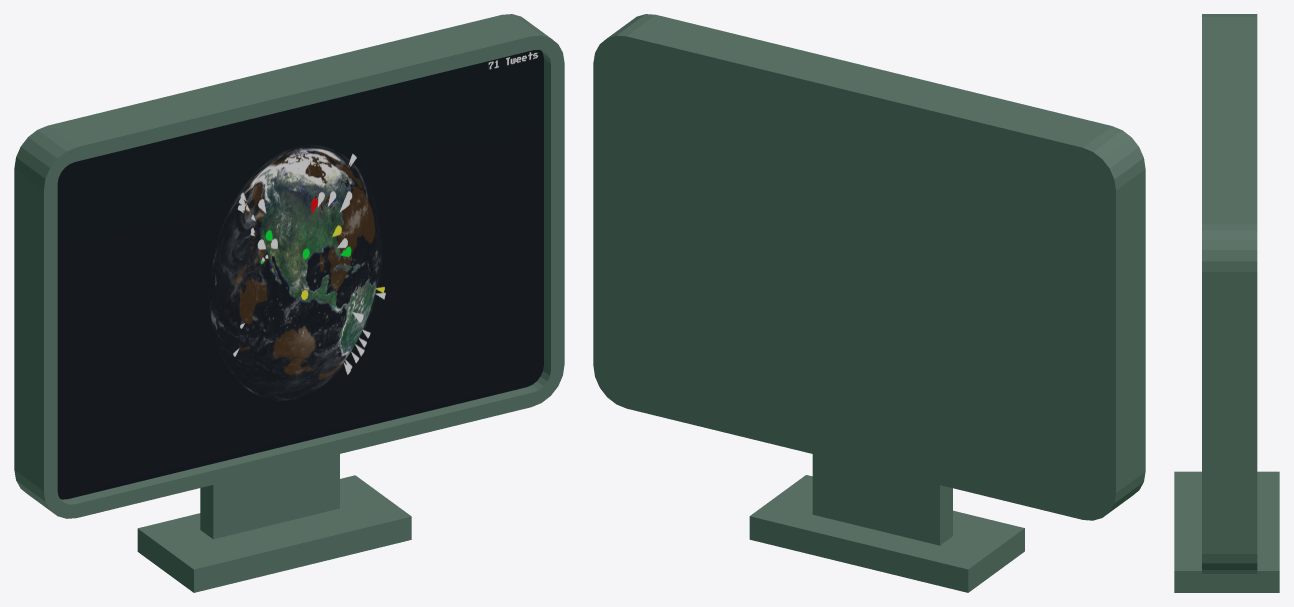
File: tweets-screen.glb
The picture shows the model from 3 angles, left to right: view 1: azimuth 30°, elevation 25°; view 2: azimuth 150°, elevation 25°; view 3: azimuth 270°, elevation 25°; orthographic projection. The views are drawn at different scales.
Parts seen in each view (by area): view 1: Cube.001; view 2: Cube.001; view 3: Cube.001.
Boxes of the visible parts, left/top/right/bottom form: Cube.001: left=14, top=14, right=564, bottom=592; Cube.001: left=593, top=14, right=1145, bottom=592; Cube.001: left=1174, top=14, right=1279, bottom=592.
Size of the model in its own units: 4.58 by 3.87 by 0.8596.
Materials: 2 (1 with a texture image).
